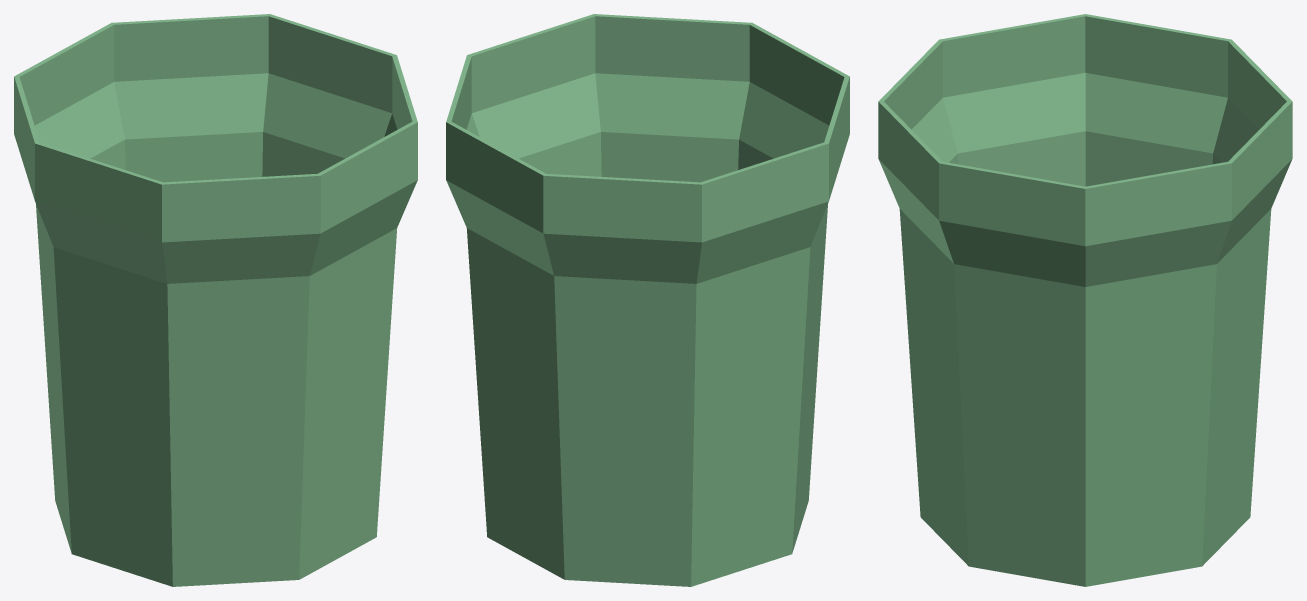
Rendered from vase.glb.
The picture shows the model from 3 angles, left to right: view 1: azimuth 30°, elevation 25°; view 2: azimuth 150°, elevation 25°; view 3: azimuth 270°, elevation 25°; orthographic projection.
Visible parts, largest first — view 1: vase; view 2: vase; view 3: vase.
Part boxes in pixels (x1,y1,x2,y2): vase: (14, 14, 417, 586); vase: (446, 14, 849, 586); vase: (878, 14, 1292, 586).
Bounding box in the file's own units: 0.5517 × 0.6112 × 0.5517.
1 material, 1 textured.
